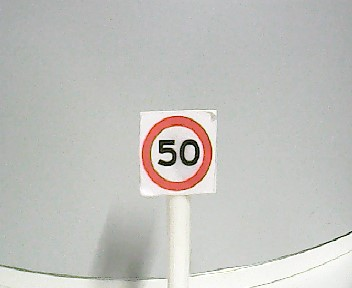50-bord: (141, 115, 213, 192)
